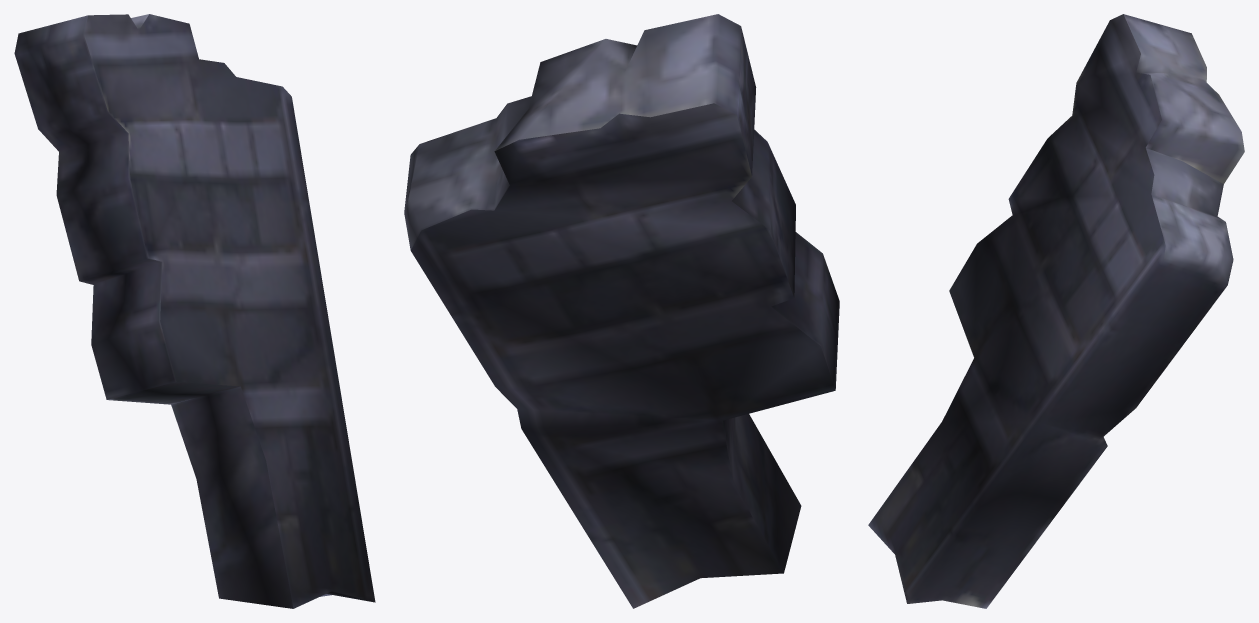
File: Beidaying_canqiang01.FBX
3 renders of one model, left to right at view 1: azimuth 30°, elevation 25°; view 2: azimuth 150°, elevation 25°; view 3: azimuth 270°, elevation 25°, orthographic. The views are drawn at different scales.
Parts seen in each view (by area): view 1: Beidaying_canqiang01; view 2: Beidaying_canqiang01; view 3: Beidaying_canqiang01.
Boxes of the visible parts, bbox=[...] form: Beidaying_canqiang01: bbox=[14, 14, 375, 608]; Beidaying_canqiang01: bbox=[404, 14, 839, 608]; Beidaying_canqiang01: bbox=[868, 14, 1244, 608].
Size of the model in its own units: 107 by 138 by 214.
